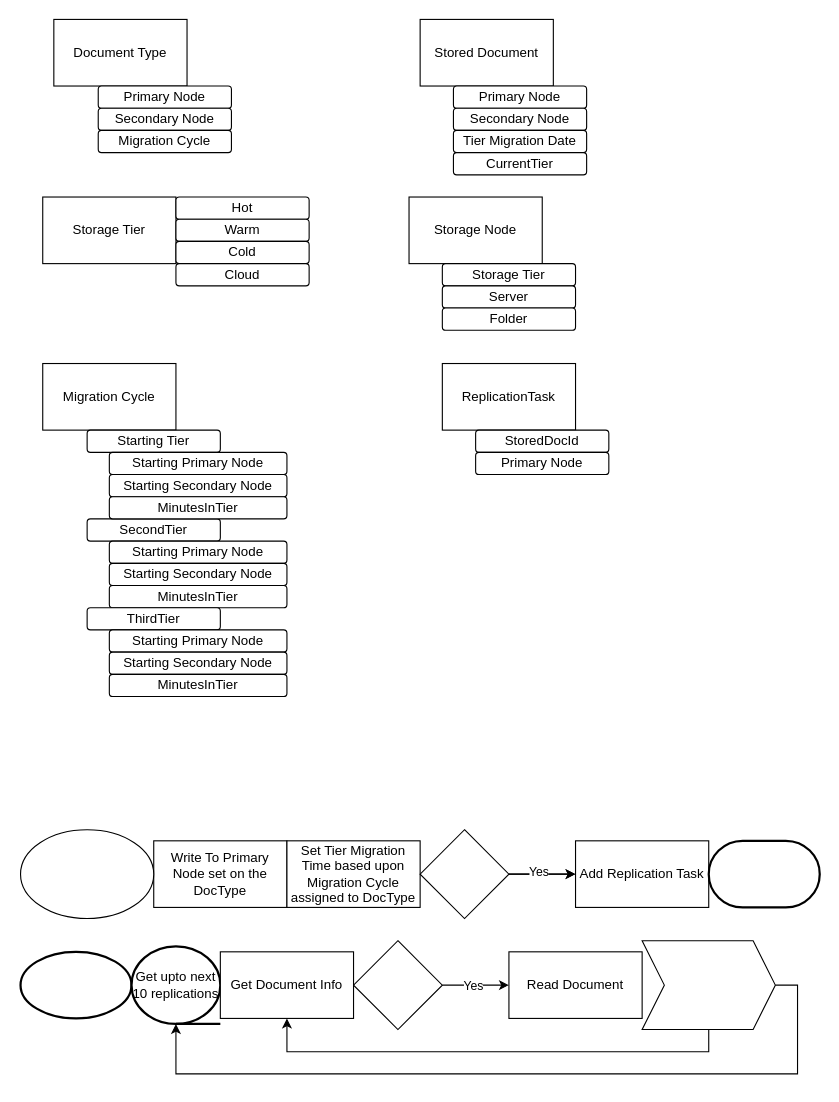
This 839x1102 diagram has some shape labels left out. The shapes that lost their labels are listed below. From the top down, each one's box as (x1, y1, x2, y2) in pixels, then its label:
(19, 829, 154, 919): Save Document
(419, 829, 509, 919): 2nd Node?
(707, 839, 820, 908): Return DocId to Caller
(19, 950, 132, 1019): Start Replication
(352, 940, 442, 1030): Doc Stored on this Node?
(641, 940, 775, 1030): Send to Node to Replicate To
